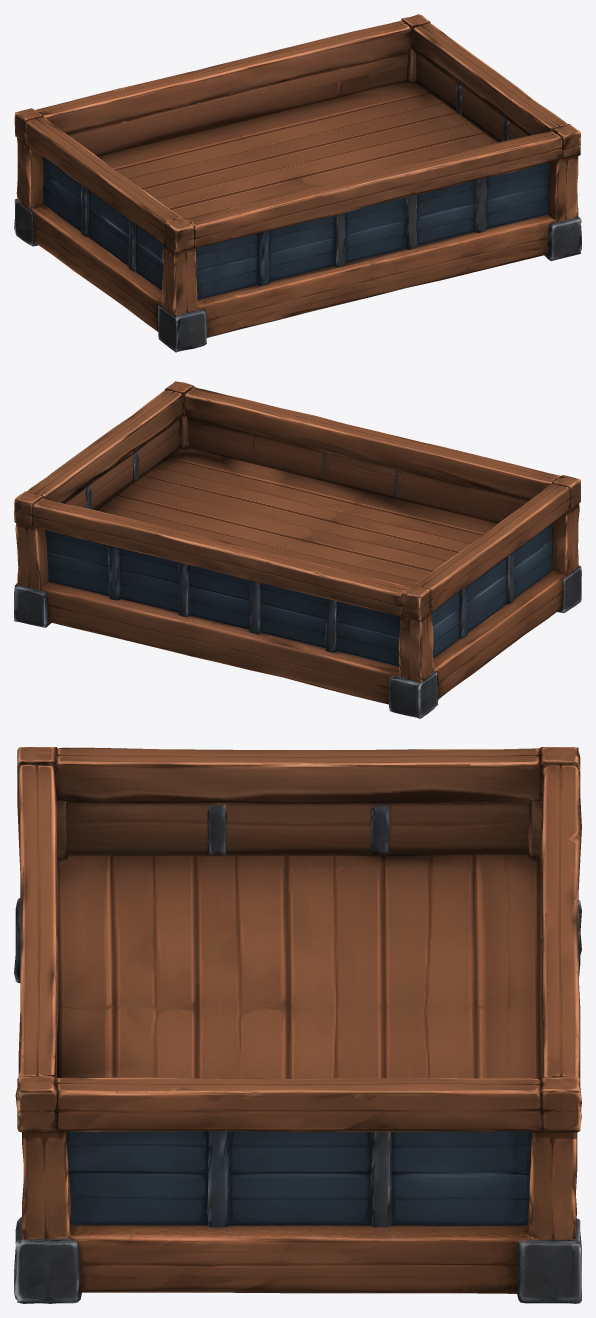
The model's file is Wooden_Arena_Platform.fbx.
3 views of the same model, one above another, from view 1: azimuth 30°, elevation 25°; view 2: azimuth 150°, elevation 25°; view 3: azimuth 270°, elevation 25° (orthographic). The views are drawn at different scales.
Visible parts, largest first — view 1: mesh_node; view 2: mesh_node; view 3: mesh_node.
Boxes of the visible parts, x1,y1,x2,y2 form: mesh_node: (14,14,581,352); mesh_node: (14,381,581,718); mesh_node: (14,747,581,1303).
Size of the model in its own units: 411 by 120 by 287.
Materials: 1 (1 with a texture image).
